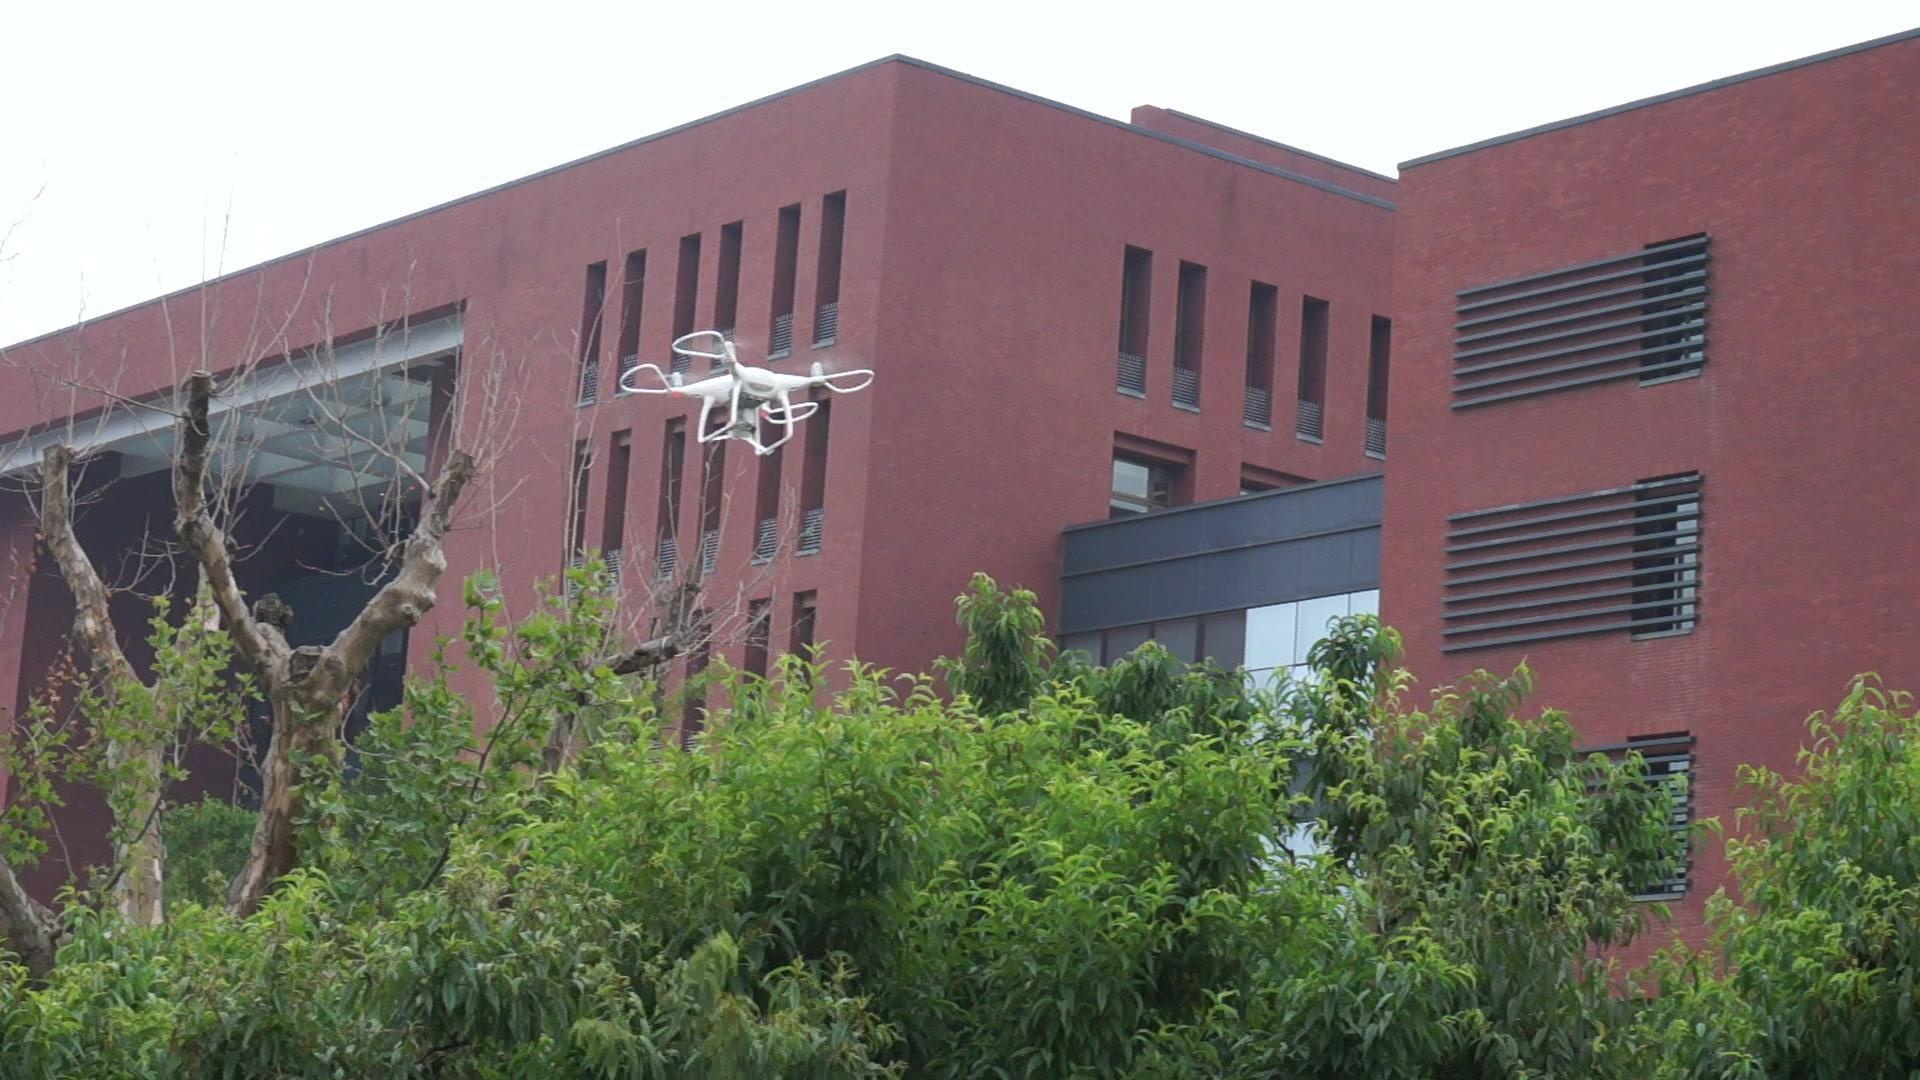UAV: (618, 331, 876, 458)
